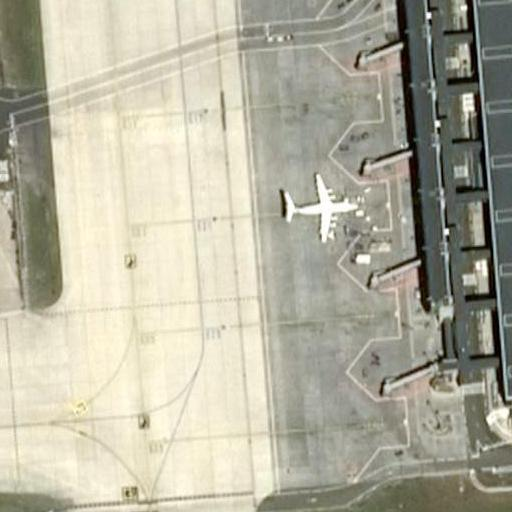Aircraft: (275, 167, 365, 242)
